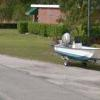Boat: (48, 32, 100, 74)
